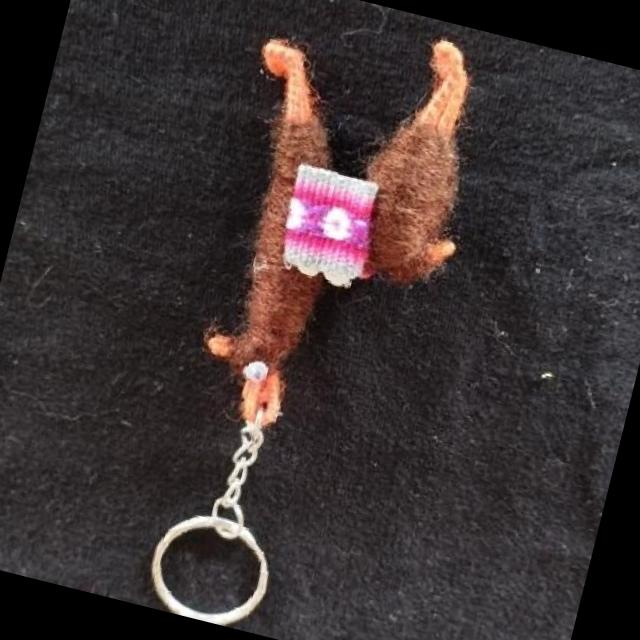Llavero: (171, 0, 505, 465)
